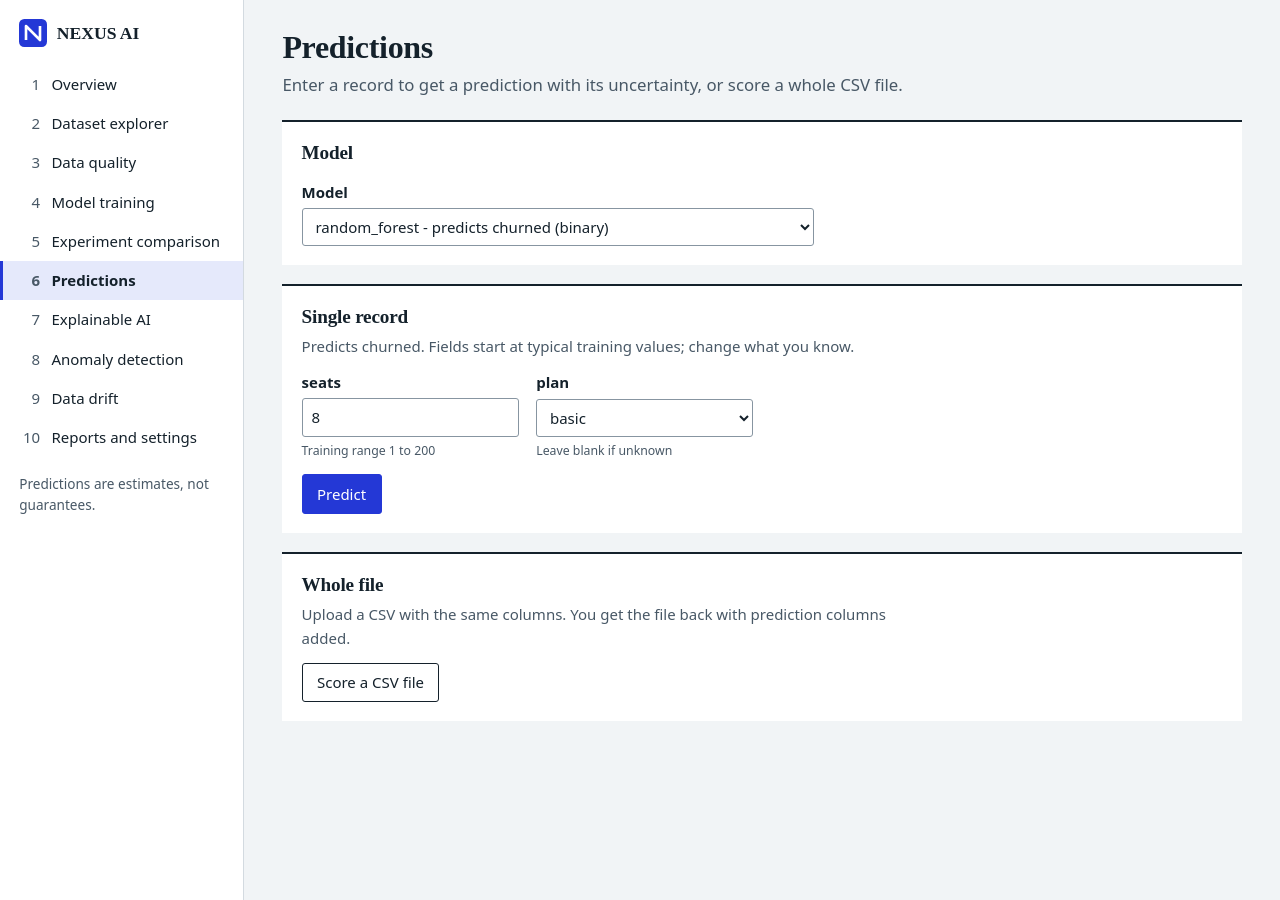
Test: predictions page › predicts for a record and shows uncertainty, input problems and the caveat
Step 1. Click the button "Predict" → (342, 494), box [302,474,382,514]
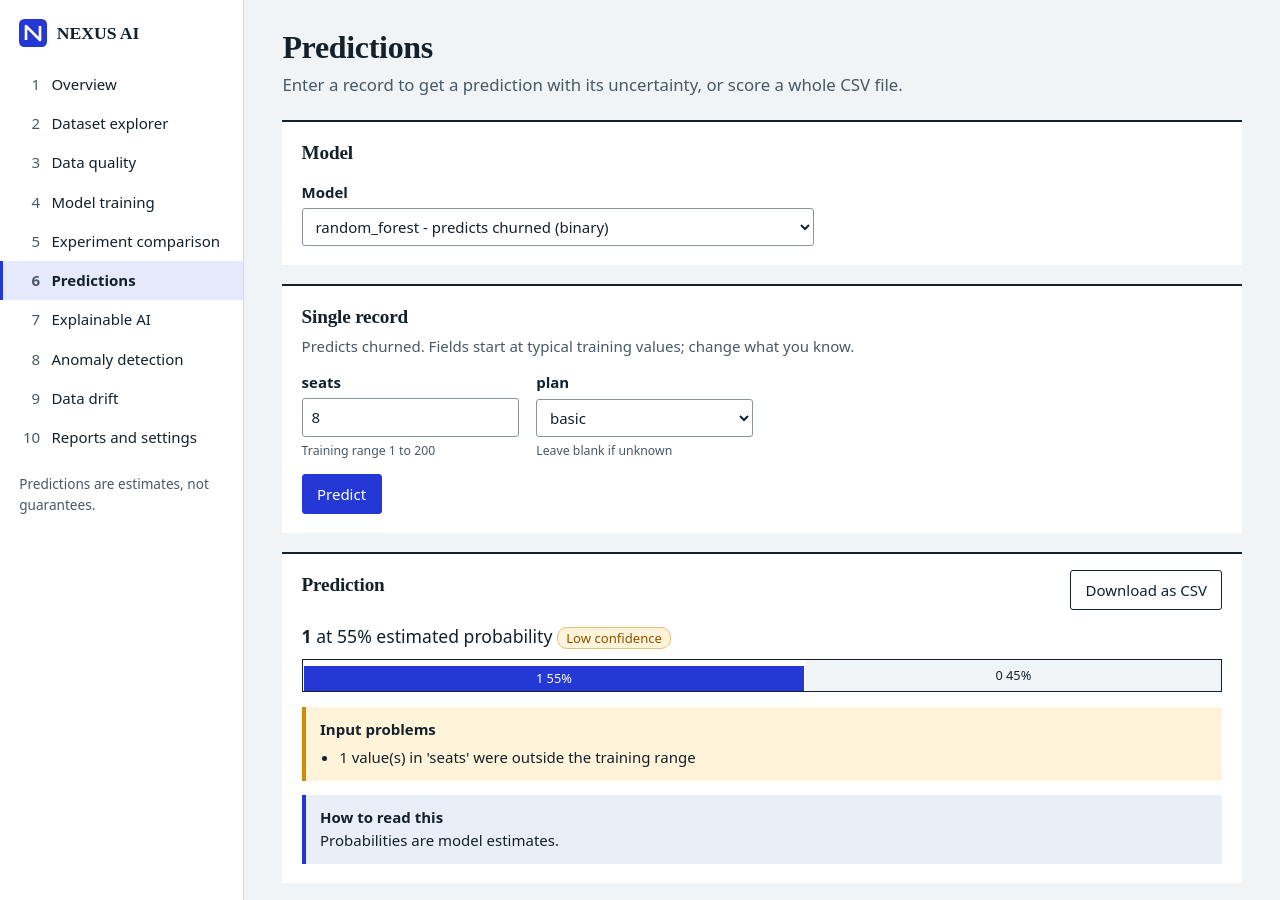
Check: the text "Low confidence" is shown, box [557,627,671,649]
Check: the list item "1 value(s) in 'seats' were outside the training range" is shown, box [339,747,696,767]
Check: the text "Probabilities are model estimates." is shown, box [320,830,559,850]
